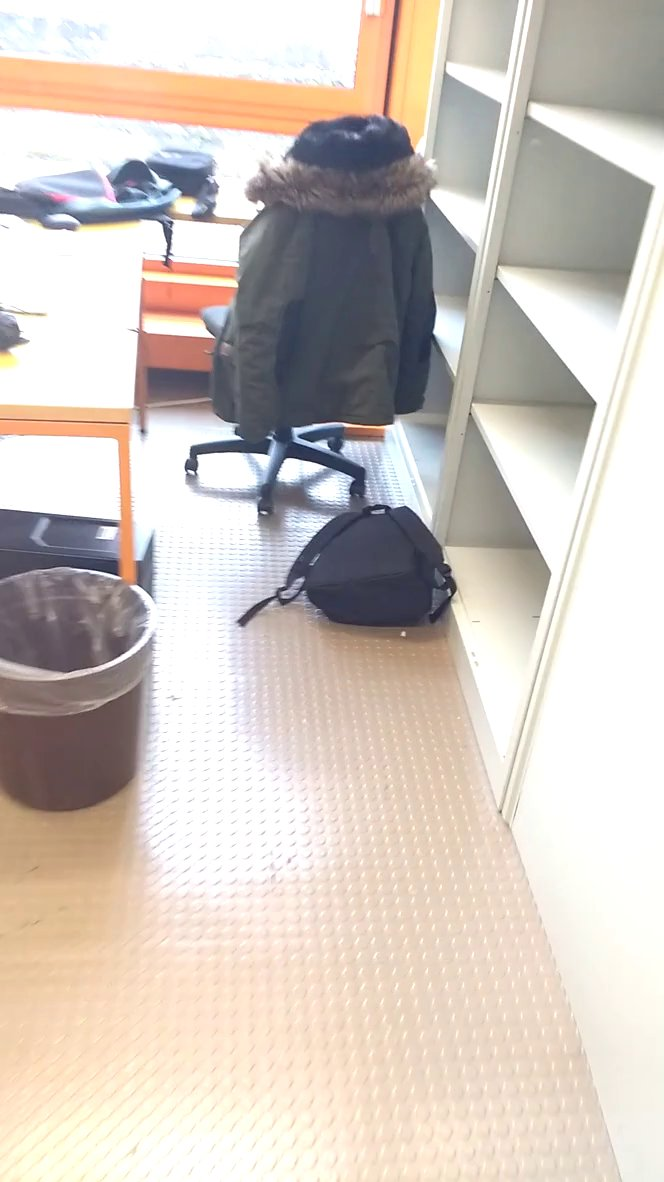bag: (232, 494, 469, 641)
bin: (1, 552, 166, 828)
